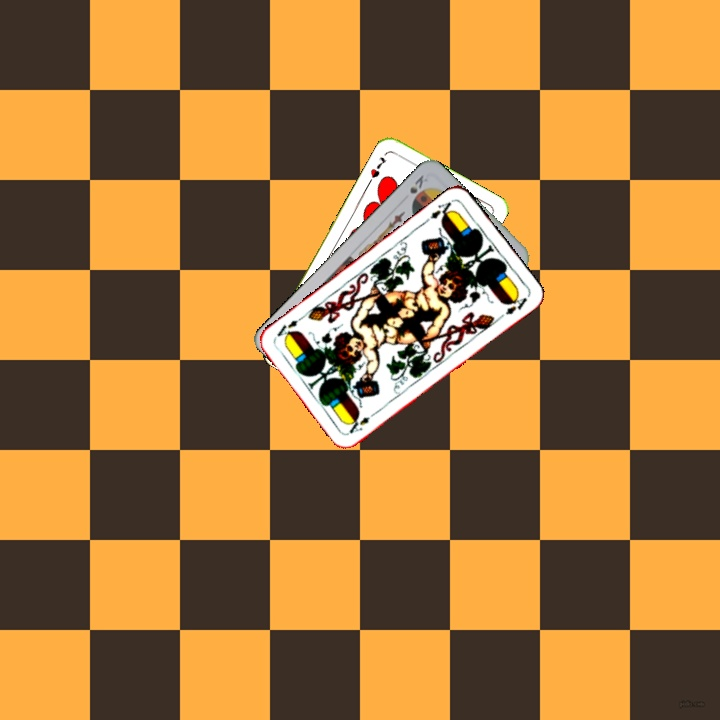EA: (421, 198, 458, 226), (345, 408, 380, 436)
H7: (366, 153, 389, 181)
SK: (406, 171, 430, 196)
